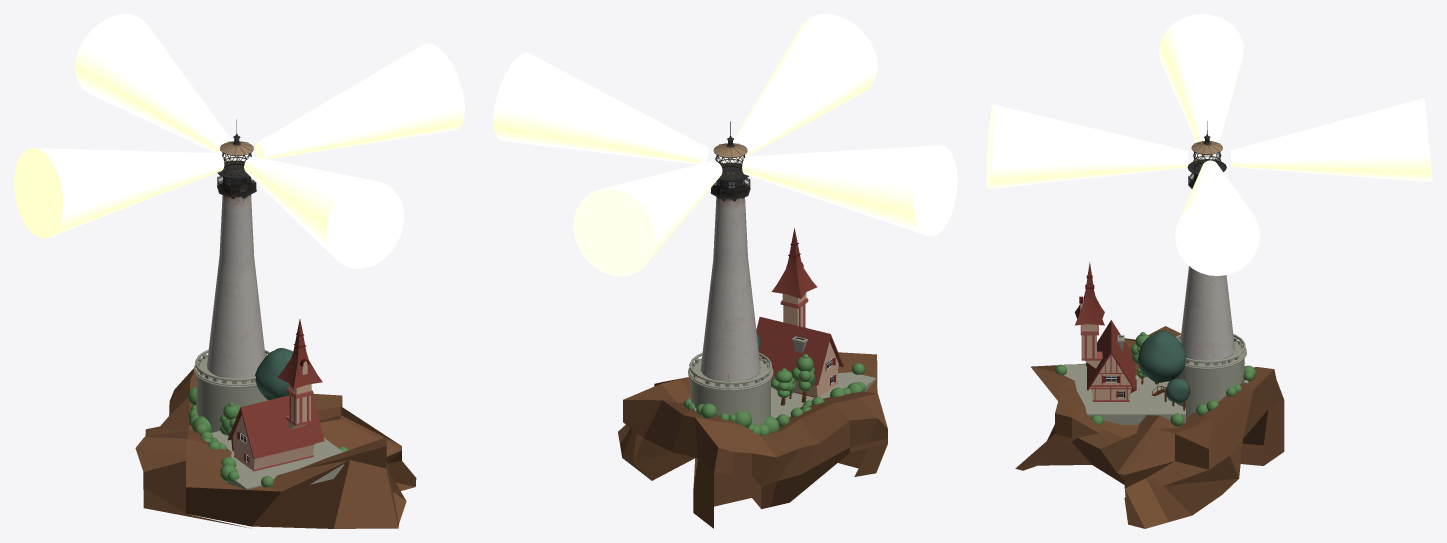
The model's file is lighthouse.glb.
3 views of the same model, side by side, from view 1: azimuth 30°, elevation 25°; view 2: azimuth 150°, elevation 25°; view 3: azimuth 270°, elevation 25° (orthographic). The views are drawn at different scales.
Visible parts, largest first — view 1: Luces, pCube13, polySurface1, pCube6, pCylinder23_Stone_0, pCube3, HojasArbol, pCube208_roof_0, pCube217_Gray_wood_0, pCube208_Gray_wood_0, polySurface49, pCube208_Green_wood_0; view 2: Luces, pCube13, polySurface1, pCube6, pCylinder23_Stone_0, pCube208_roof_0, pCube3, polySurface49, polySurface87_Light_green_0, pCube208_Gray_wood_0, pCube217_Gray_wood_0; view 3: Luces, pCube13, polySurface1, pCube3, HojasArbol, pCylinder23_Stone_0, pCube6, pCube208_roof_0, pCube208_Gray_wood_0.
Part boxes in pixels (box(x1,y1,x2,y2)): Luces: box(14, 14, 464, 268); pCube13: box(135, 368, 416, 528); polySurface1: box(207, 195, 265, 378); pCube6: box(227, 395, 324, 458); pCylinder23_Stone_0: box(196, 356, 267, 432); pCube3: box(211, 431, 344, 489); HojasArbol: box(255, 348, 293, 400); pCube208_roof_0: box(277, 319, 322, 389); pCube217_Gray_wood_0: box(232, 437, 313, 470); pCube208_Gray_wood_0: box(287, 361, 311, 429); polySurface49: box(223, 165, 250, 193); pCube208_Green_wood_0: box(285, 388, 313, 426); Luces: box(493, 14, 957, 276); pCube13: box(618, 352, 887, 528); polySurface1: box(700, 197, 760, 381); pCube6: box(756, 317, 843, 385); pCylinder23_Stone_0: box(690, 359, 770, 425); pCube208_roof_0: box(771, 228, 817, 298); pCube3: box(771, 372, 876, 418); polySurface49: box(716, 167, 744, 195); polySurface87_Light_green_0: box(791, 354, 815, 391); pCube208_Gray_wood_0: box(782, 293, 806, 327); pCube217_Gray_wood_0: box(771, 364, 838, 396); Luces: box(986, 14, 1432, 275); pCube13: box(1015, 326, 1284, 528); polySurface1: box(1180, 266, 1234, 360); pCube3: box(1064, 364, 1185, 424); HojasArbol: box(1138, 330, 1189, 403); pCylinder23_Stone_0: box(1175, 341, 1244, 417); pCube6: box(1087, 320, 1135, 390); pCube208_roof_0: box(1074, 262, 1104, 325); pCube208_Gray_wood_0: box(1080, 297, 1102, 368).
Size of the model in its own units: 37.8 by 33.58 by 37.76.
20 materials, 5 textured.
